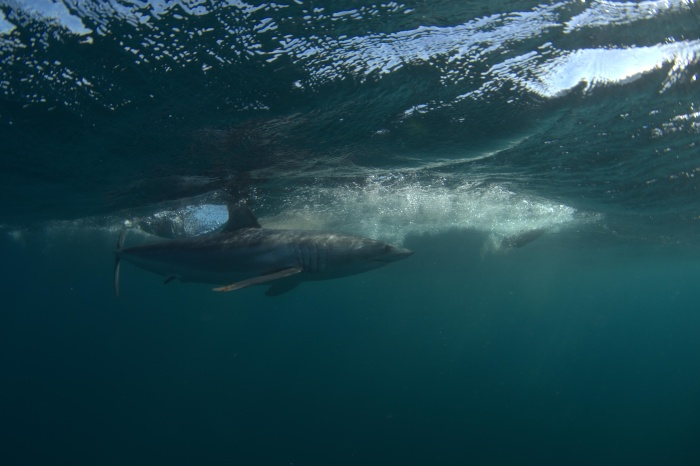Mako: (90, 193, 423, 308)
